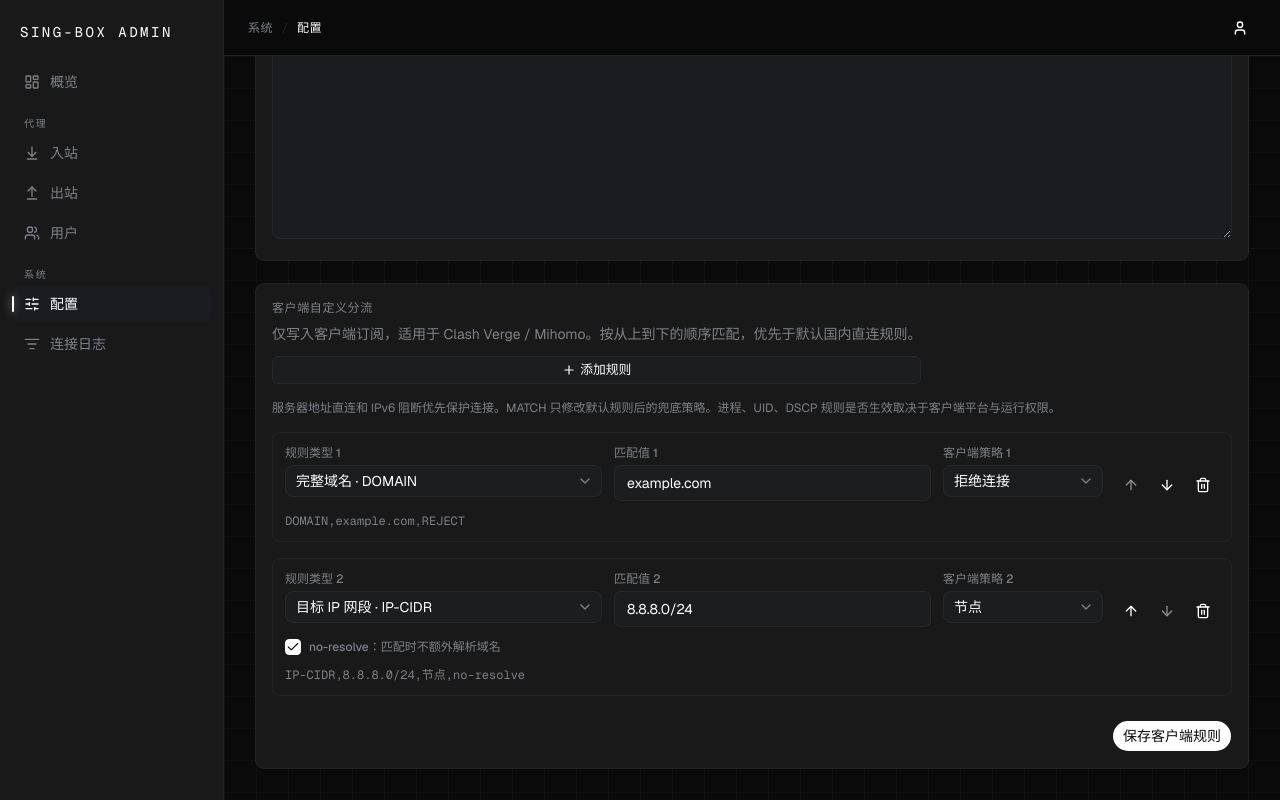
Scenario: ConfigPage › 按调整后的顺序保存客户端规则
The width and height of the screenshot is (1280, 800).
(page scrolled)
Expected: the field showing "example.com" is shown, [614,465,931,501]
Click the button named "上移规则 2" at [1131, 611], box [1115,595,1147,627]
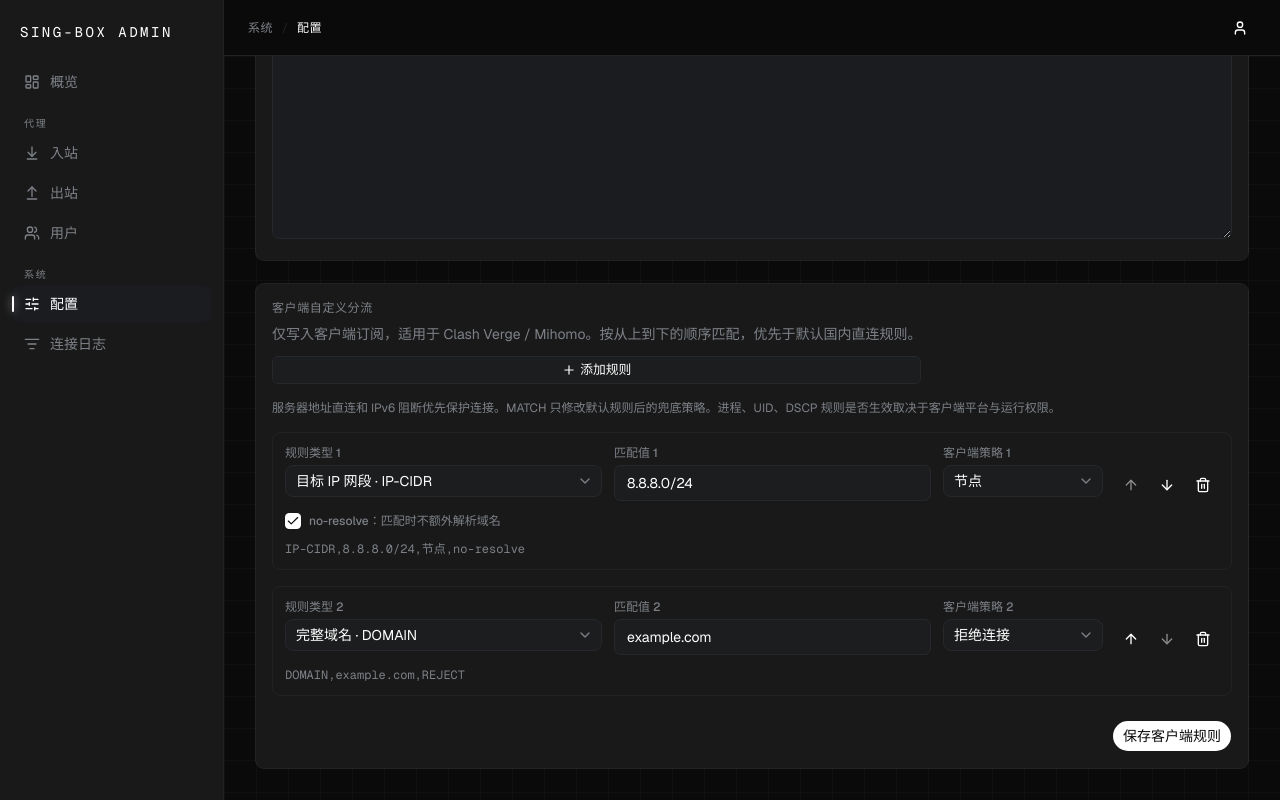
Click the button "保存客户端规则" at [1172, 736], box [1112,720,1232,752]
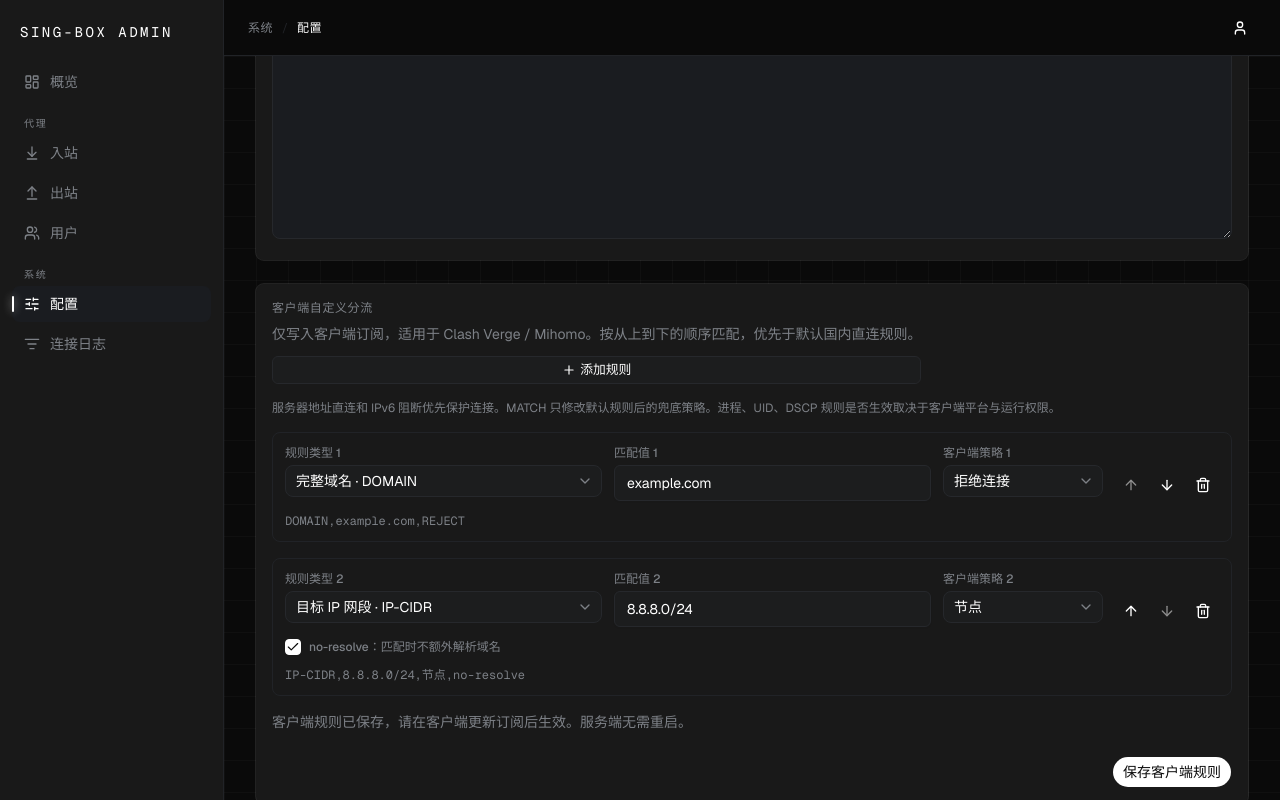
Expected: the text "客户端规则已保存，请在客户端更新订阅后生效。服务端无需重启。" is shown, [272,713,692,731]
